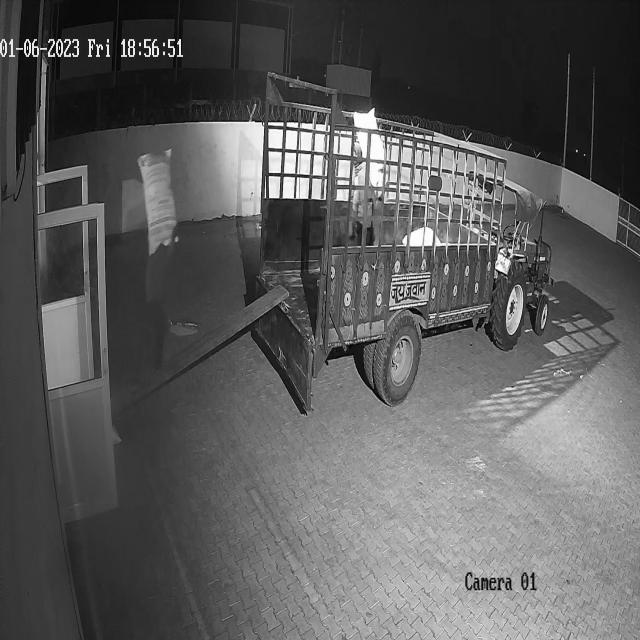sack: (137, 147, 176, 255)
